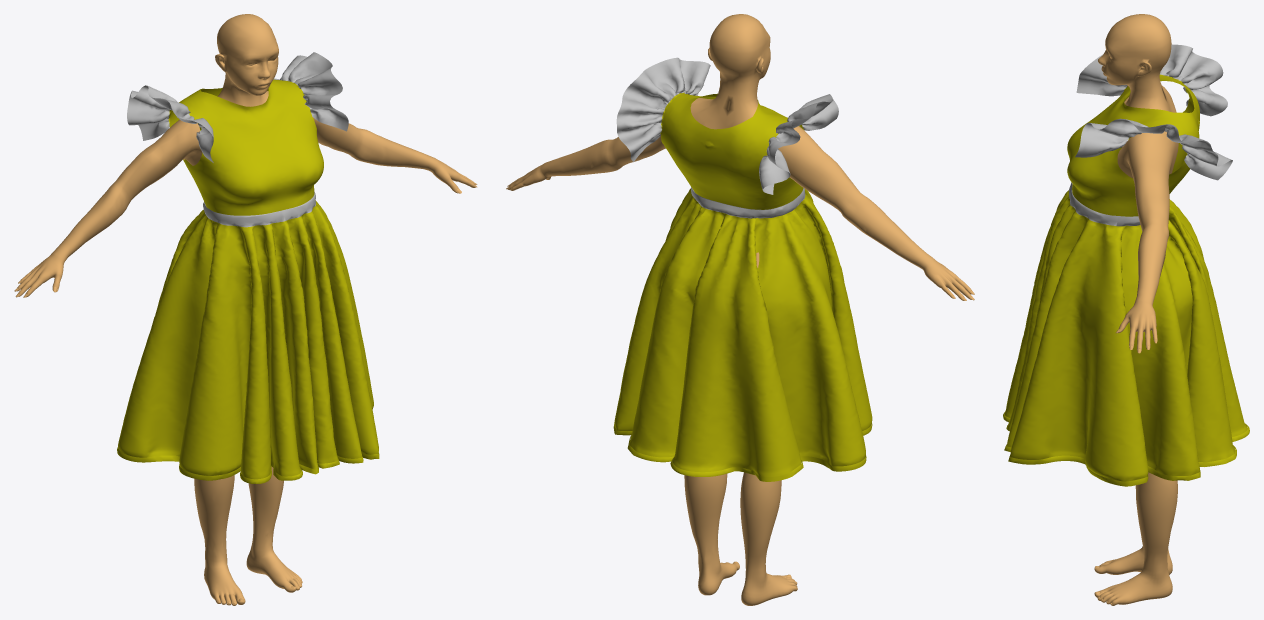
Rendered from dress10.glb.
3 renders of one model, left to right at view 1: azimuth 30°, elevation 25°; view 2: azimuth 150°, elevation 25°; view 3: azimuth 270°, elevation 25°, orthographic.
Parts seen in each view (by area): view 1: PinkDrees#14 (OBJ), Body.003; view 2: PinkDrees#14 (OBJ), Body.003; view 3: PinkDrees#14 (OBJ), Body.003.
Part boxes in pixels (bbox=[...]): PinkDrees#14 (OBJ): bbox=[117, 52, 379, 483]; Body.003: bbox=[17, 14, 476, 605]; PinkDrees#14 (OBJ): bbox=[613, 57, 872, 481]; Body.003: bbox=[507, 14, 972, 605]; PinkDrees#14 (OBJ): bbox=[1003, 44, 1249, 486]; Body.003: bbox=[1094, 14, 1178, 605].
Bounding box in the file's own units: 1.58 × 1.85 × 0.7262.
